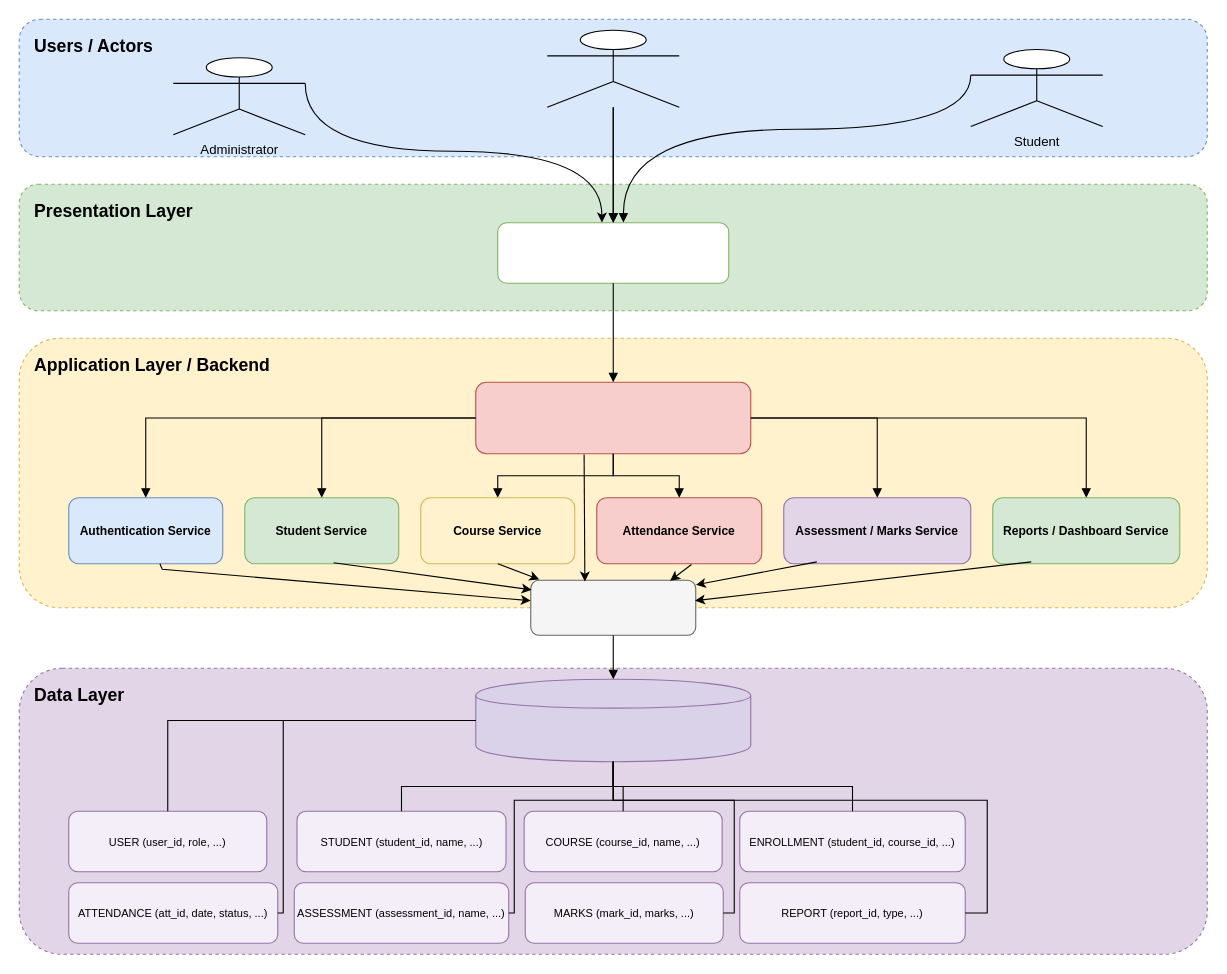
This 1227x974 diagram has some shape labels left out. The shapes that lost their labels are listed below. From the top down, each one's centre as x and y in pixels, then its label:
the point at 612,68: Faculty
the point at 613,252: Web Browser / Web UI
the point at 613,417: Web Server / REST API
the point at 613,607: Audit Service
the point at 613,720: MySQL Database
